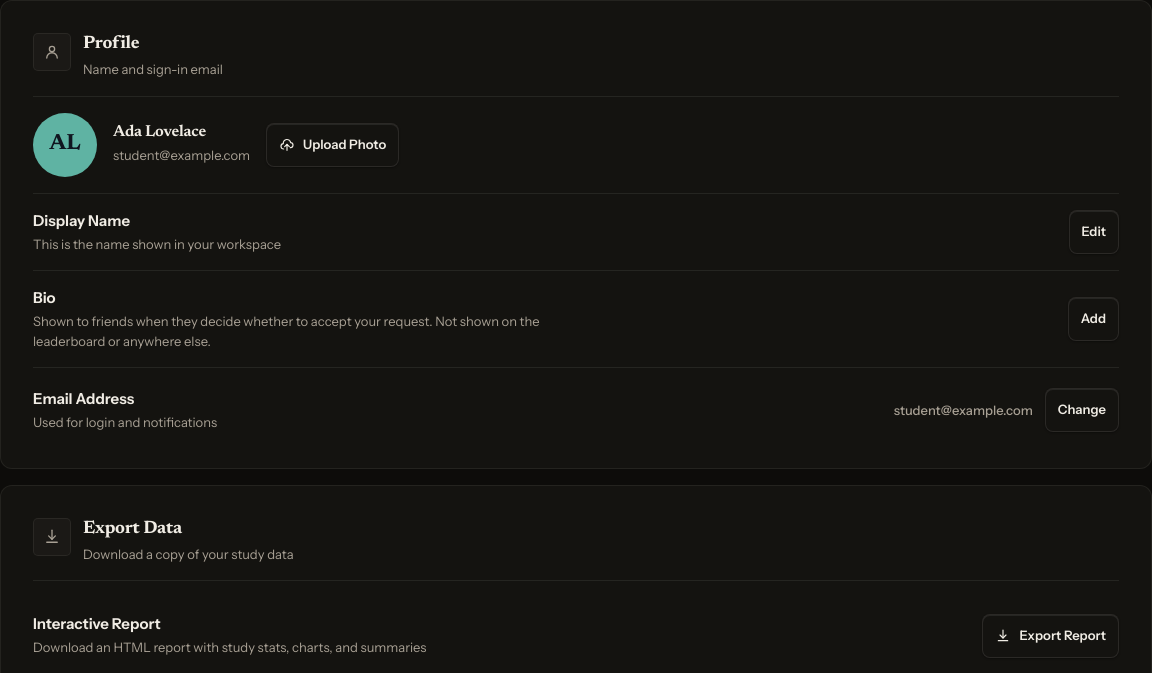
it: AccountTab › saves a new display name and repaints the heading and initials
Click the button "Edit".
click(1094, 232)  # box [1068, 210, 1119, 254]
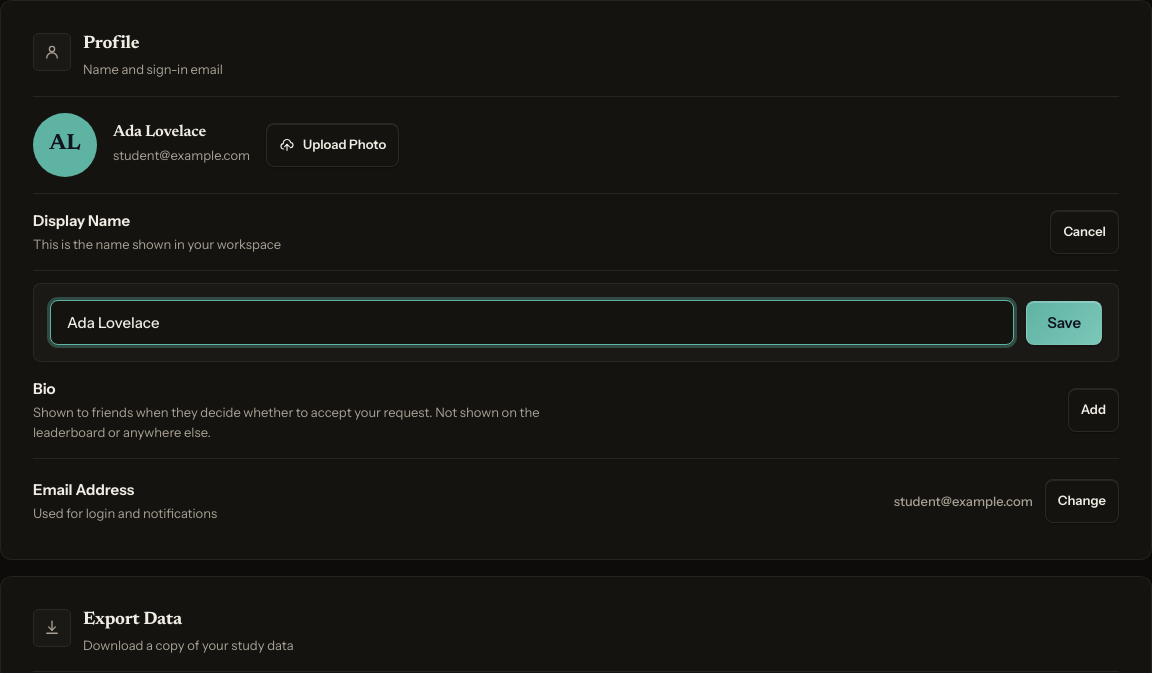
Replace the text in the field labelled "Display Name" with "  Grace Hopper  " at point(532, 322), box [50, 300, 1014, 345]
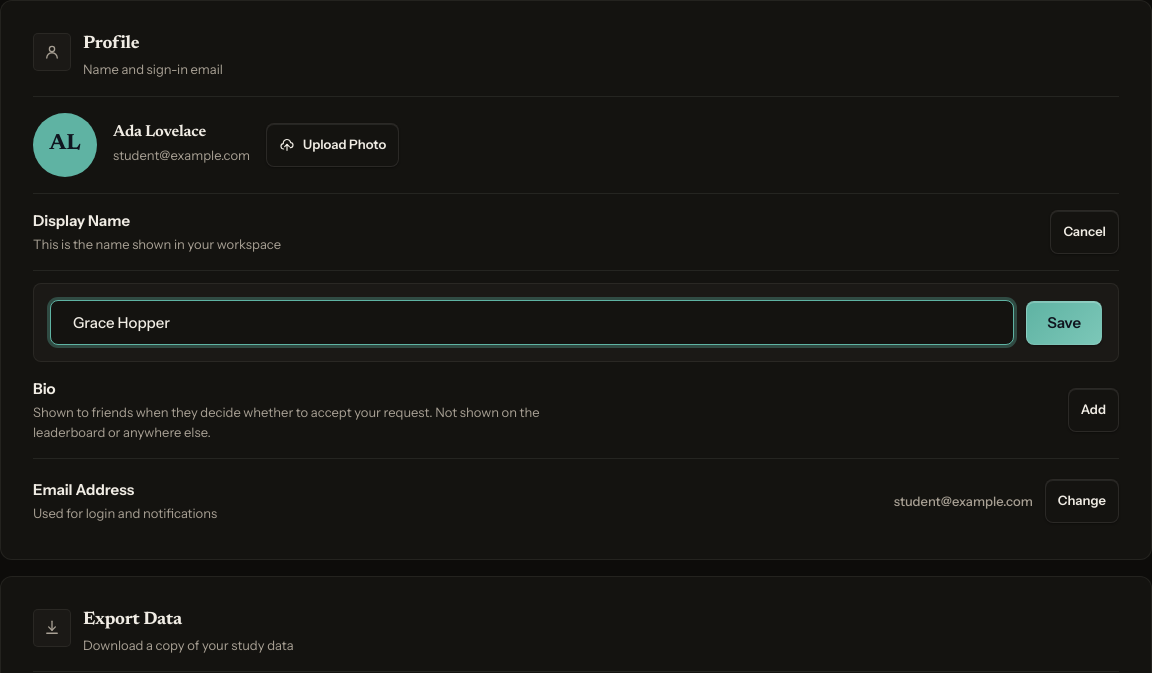
Click the button "Save".
click(1064, 323)  # box [1026, 301, 1102, 345]
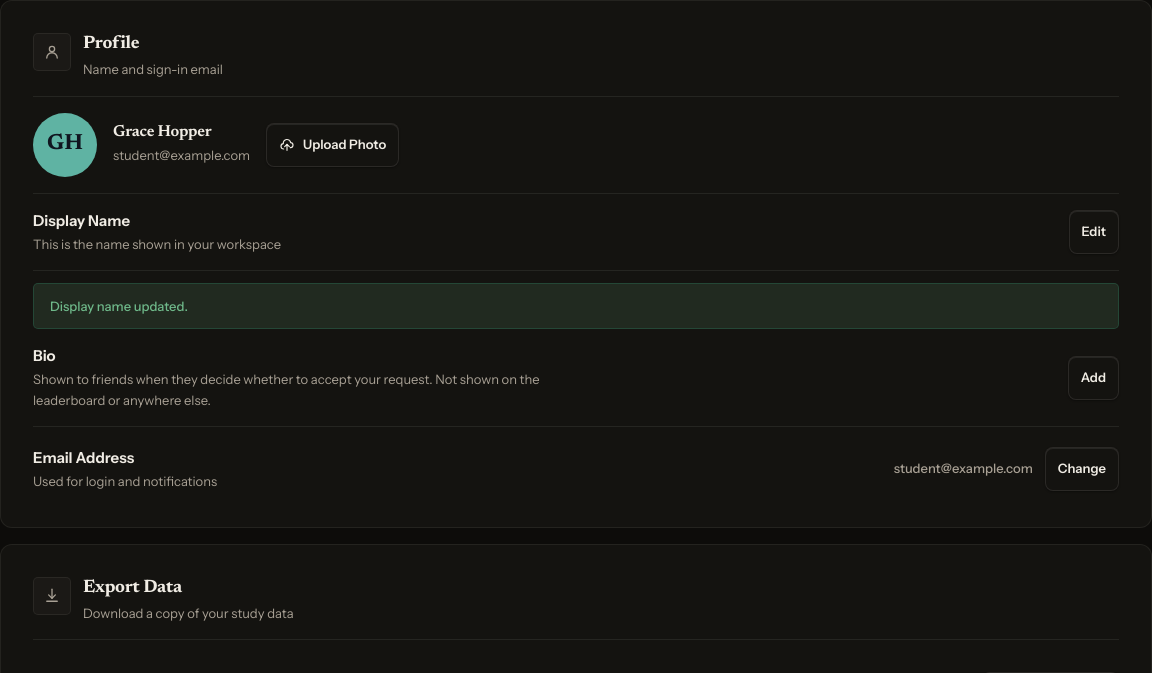
expect the heading "Grace Hopper" is shown: met, box [113, 124, 212, 140]
expect the text "GH" is shown: met, box [33, 112, 97, 176]
expect the text "Display name updated." is shown: met, box [33, 283, 1119, 330]
